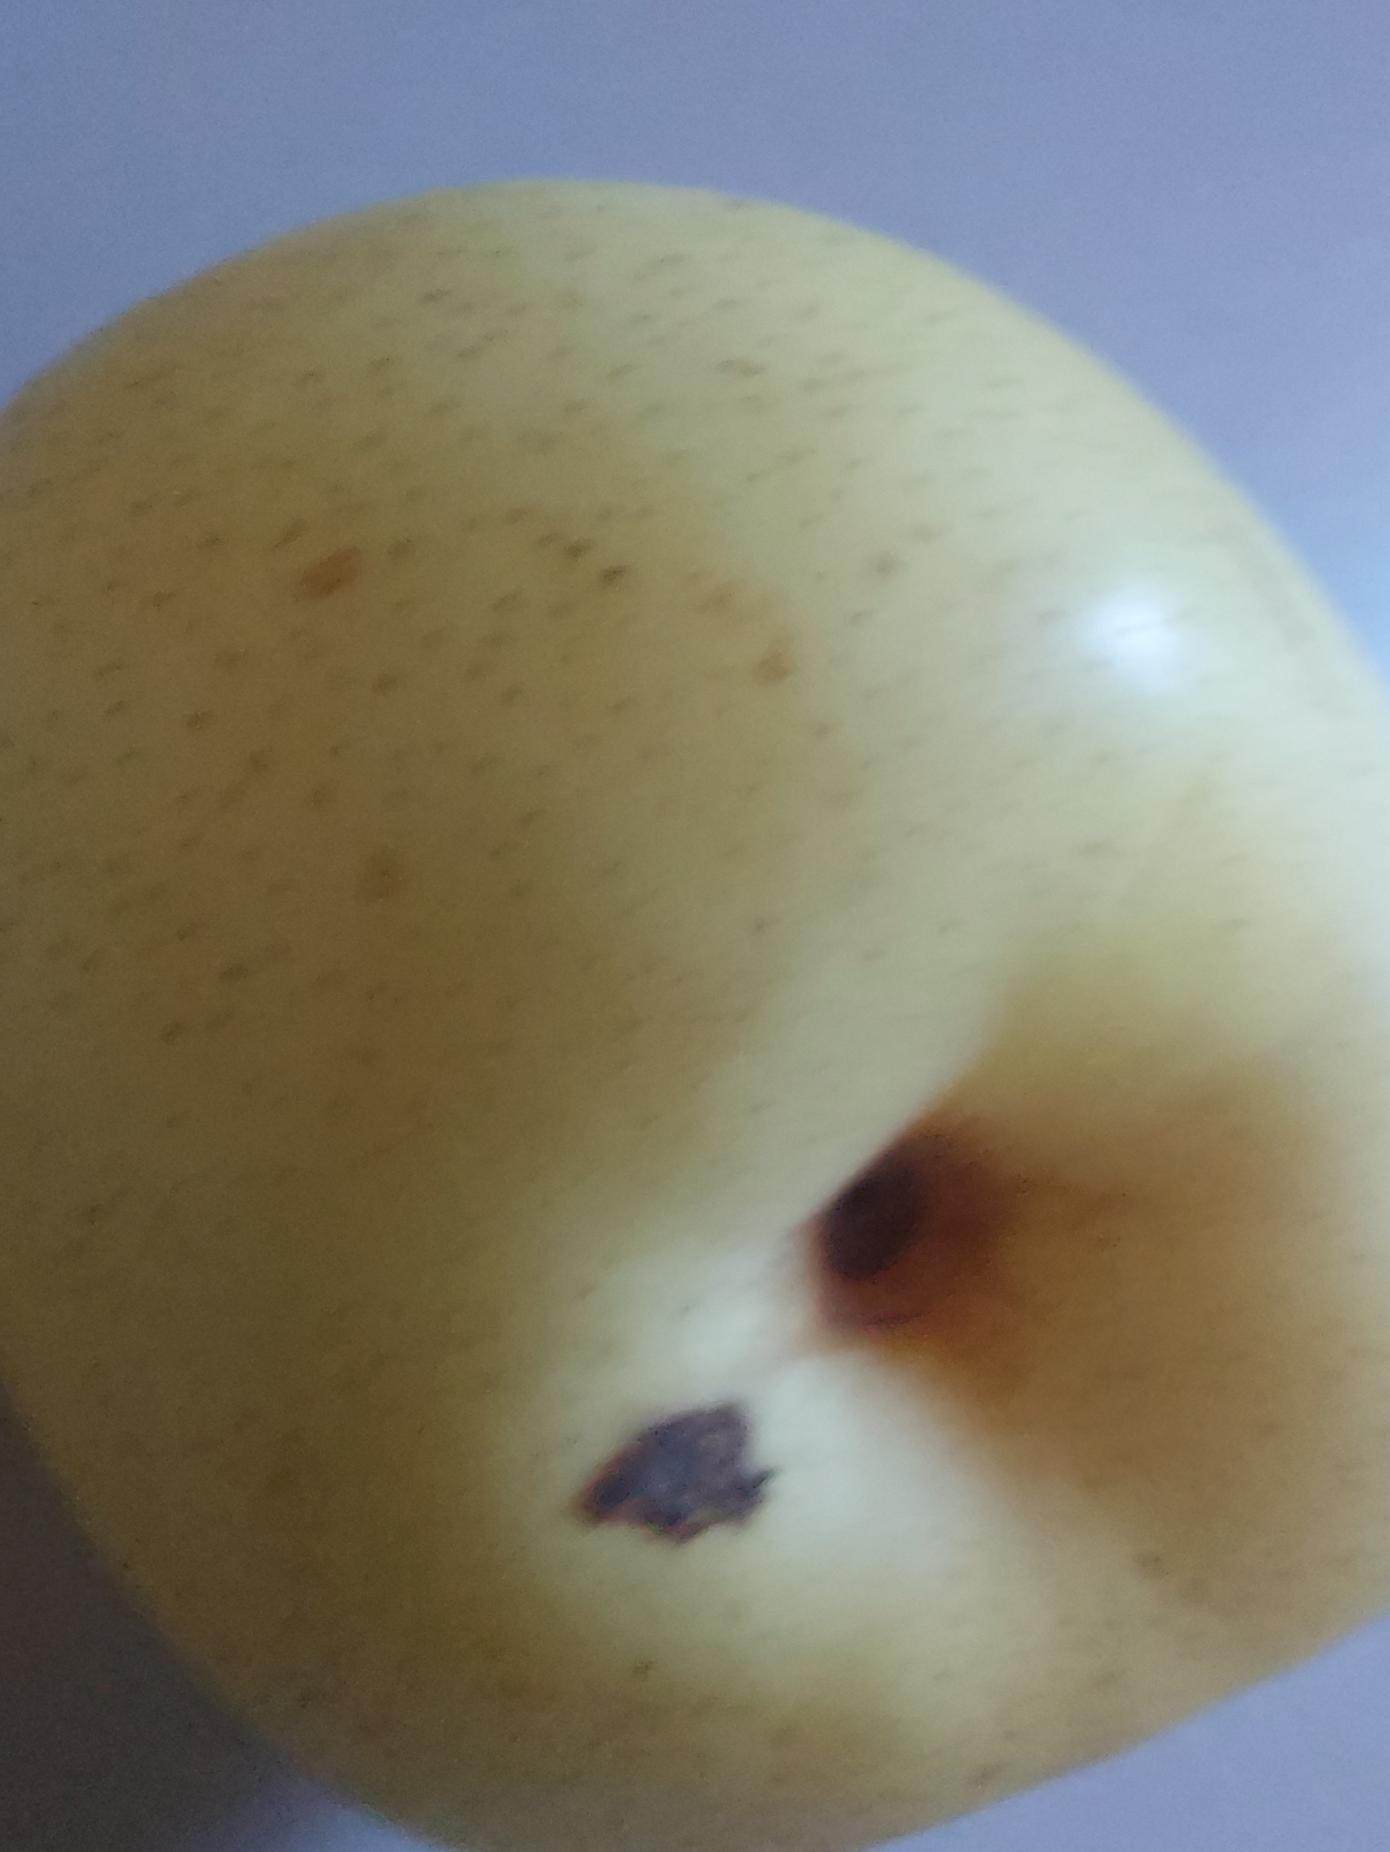Good Pear: (0, 168, 1390, 1852)
